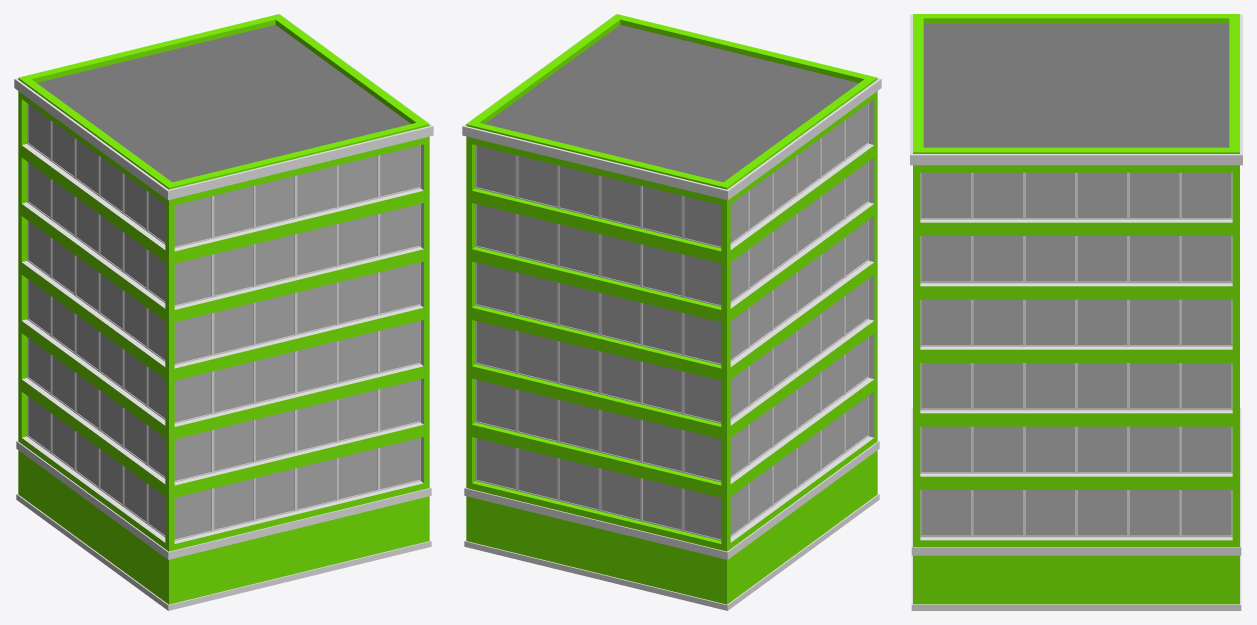
The model's file is SM_House_04_04.FBX.
3 renders of one model, left to right at view 1: azimuth 30°, elevation 25°; view 2: azimuth 150°, elevation 25°; view 3: azimuth 270°, elevation 25°, orthographic. The views are drawn at different scales.
Parts seen in each view (by area): view 1: SM_House_04_04; view 2: SM_House_04_04; view 3: SM_House_04_04.
Boxes of the visible parts, <box> form: SM_House_04_04: <box>14,14,433,610</box>; SM_House_04_04: <box>462,14,881,610</box>; SM_House_04_04: <box>910,14,1242,610</box>.
Bounding box in the file's own units: 6.11 × 9.28 × 6.11.
1 material, 1 textured.
